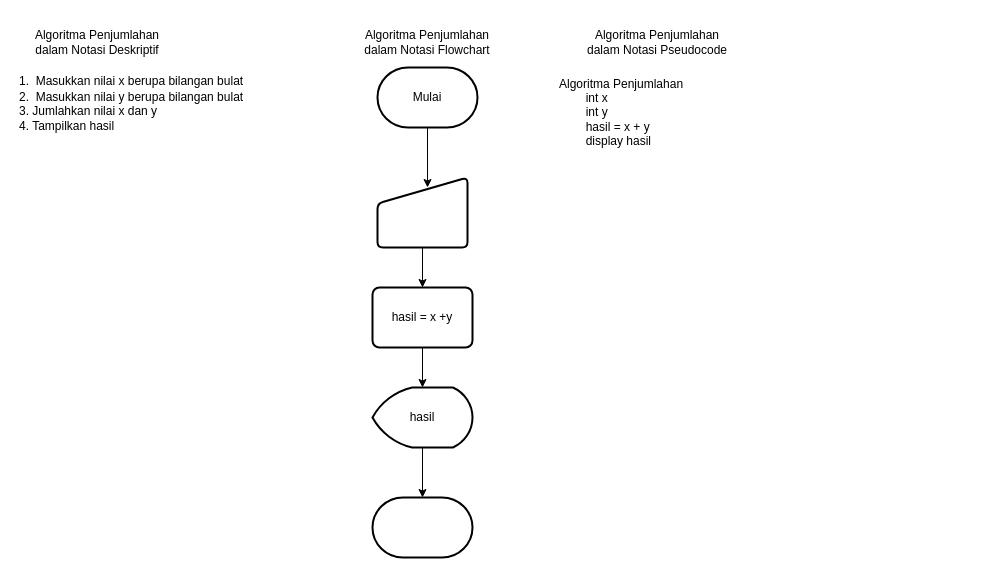
Some shapes in this 984 by 575 pixel diagram are drawn without their labels. Each missing label, with the centre of its shape:
Selesai: (422,527)
x,y: (422,212)
